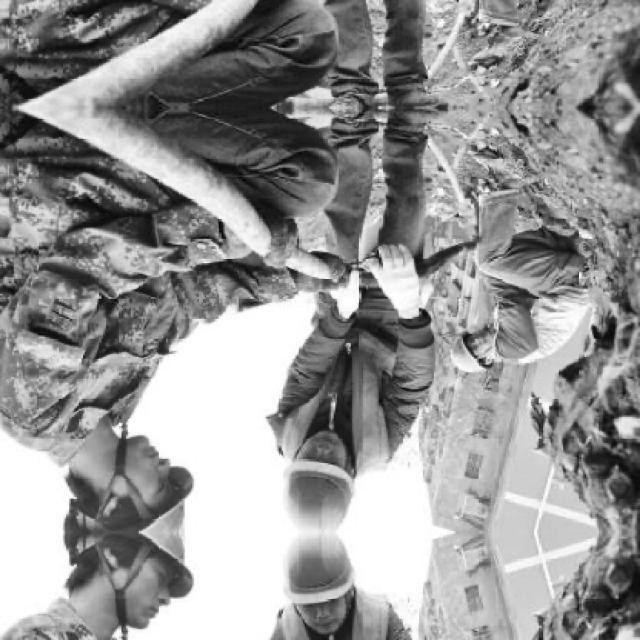con casco: (274, 432, 388, 530), (51, 462, 201, 534), (435, 321, 545, 389)
